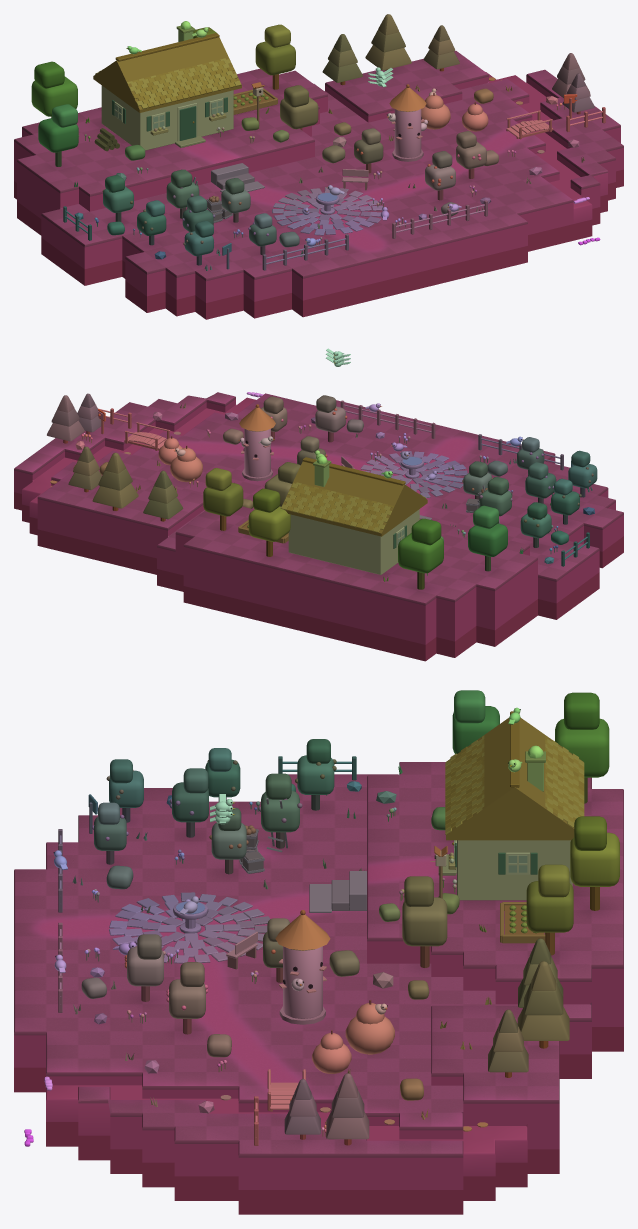
The model's file is grass_1.glb.
3 views of the same model, one above another, from view 1: azimuth 30°, elevation 25°; view 2: azimuth 150°, elevation 25°; view 3: azimuth 270°, elevation 25° (orthographic). The views are drawn at different scales.
Parts seen in each view (by area): view 1: Terrain.001, Trees, Buildings, Props, Greenery; view 2: Terrain.001, Trees, Buildings, Props, Greenery; view 3: Terrain.001, Trees, Buildings, Props, Greenery.
Boxes of the visible parts, box(x1,y1,x2,y2) form: Terrain.001: box(14, 51, 623, 319); Trees: box(31, 14, 594, 265); Buildings: box(93, 26, 426, 161); Props: box(63, 21, 605, 270); Greenery: box(74, 77, 584, 270); Terrain.001: box(14, 392, 623, 661); Trees: box(47, 393, 597, 589); Buildings: box(239, 404, 427, 574); Props: box(75, 348, 594, 566); Greenery: box(50, 403, 592, 581); Terrain.001: box(14, 762, 623, 1214); Trees: box(91, 690, 619, 1145); Buildings: box(275, 711, 584, 1024); Props: box(24, 707, 545, 1146); Greenery: box(72, 764, 537, 1136).
Size of the model in its own units: 28 by 8.17 by 19.
54 materials, 1 textured.
